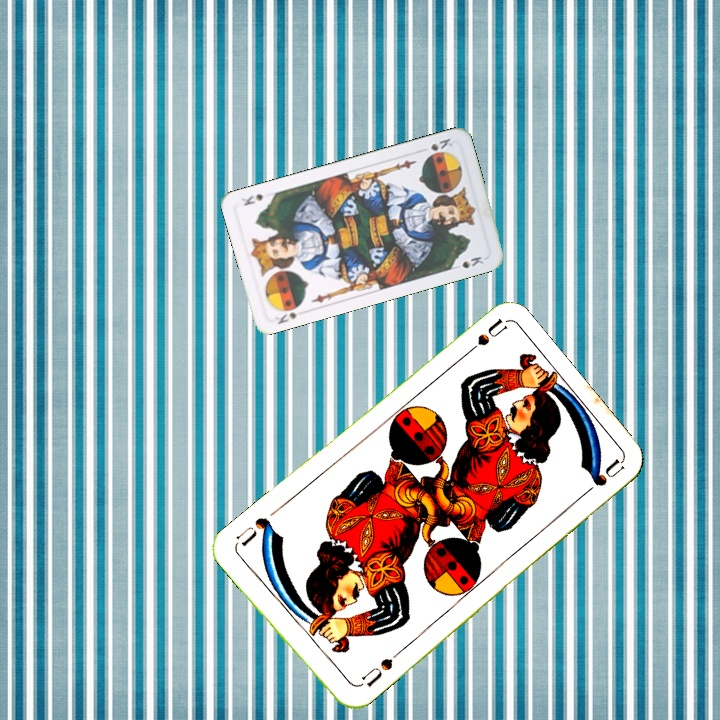SK: (427, 134, 455, 153), (271, 308, 299, 327)
SU: (457, 315, 509, 362), (357, 648, 401, 690)
